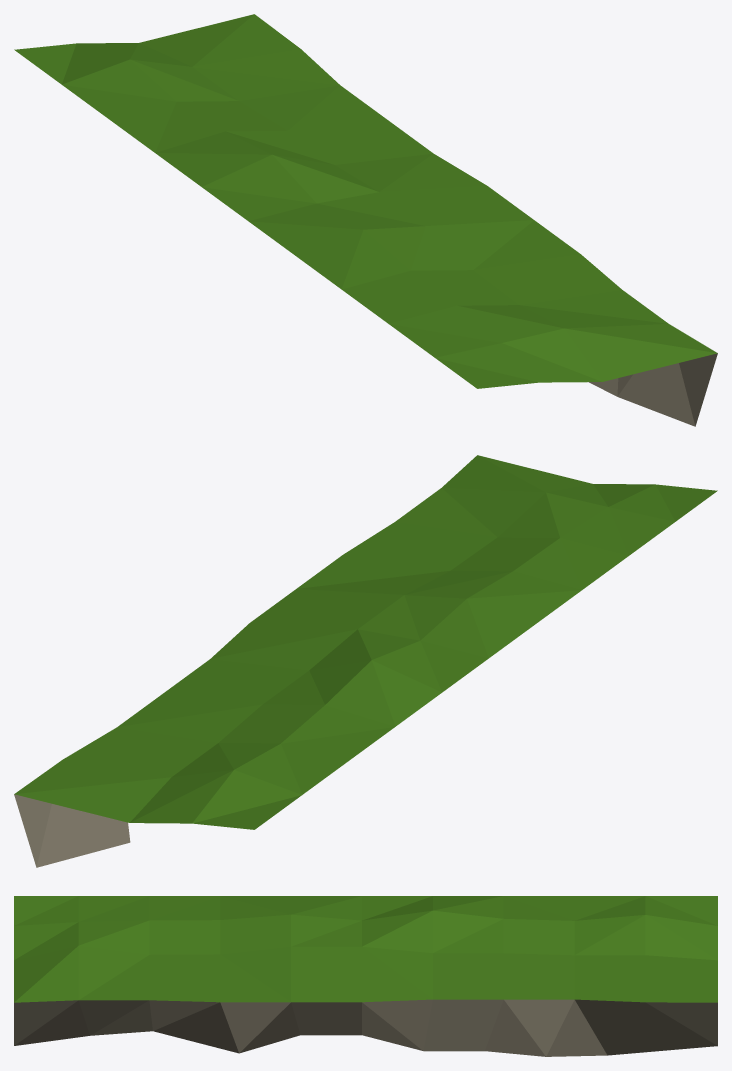
The model's file is land_a.fbx.
3 renders of one model, top to bottom at view 1: azimuth 30°, elevation 25°; view 2: azimuth 150°, elevation 25°; view 3: azimuth 270°, elevation 25°, orthographic. The views are drawn at different scales.
Visible parts, largest first — view 1: land; view 2: land; view 3: land.
Part boxes in pixels (x1,y1,x2,y2): land: [14, 14, 717, 426]; land: [14, 455, 717, 867]; land: [14, 896, 717, 1056].
Size of the model in its own units: 0.2408 by 0.1202 by 0.7816.
